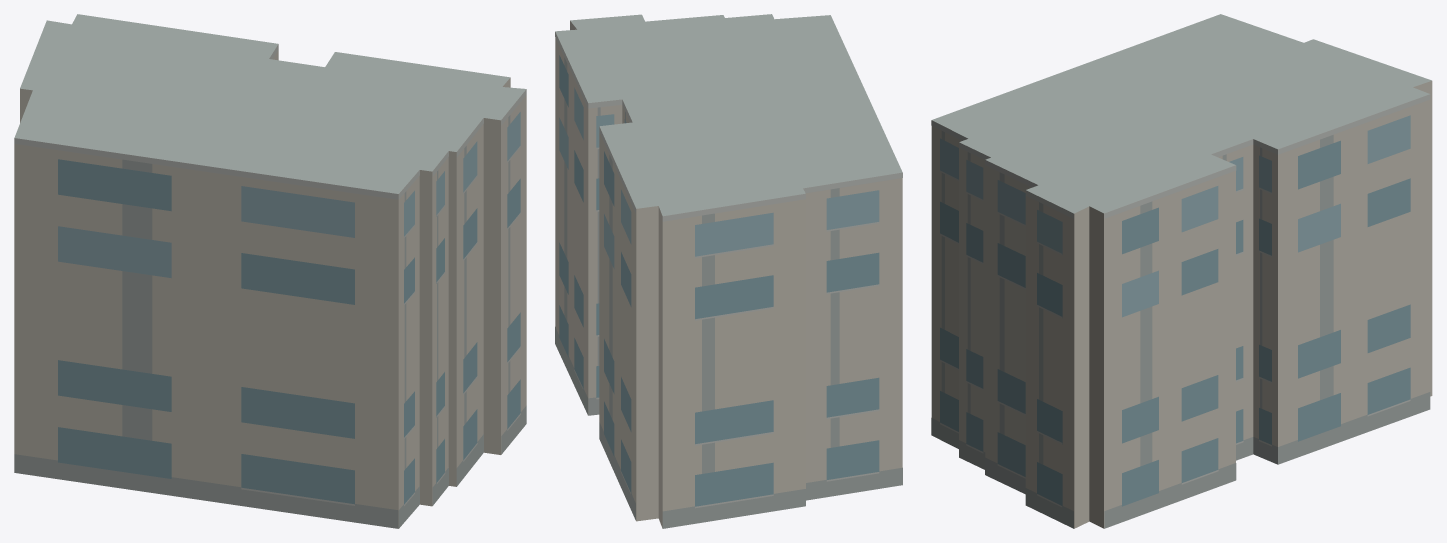
File: survey-upis-32633749.glb
3 renders of one model, left to right at view 1: azimuth 30°, elevation 25°; view 2: azimuth 150°, elevation 25°; view 3: azimuth 270°, elevation 25°, orthographic. The views are drawn at different scales.
Parts seen in each view (by area): view 1: survey-upis-32633749.tmp; view 2: survey-upis-32633749.tmp; view 3: survey-upis-32633749.tmp.
Part boxes in pixels (bbox=[...]): survey-upis-32633749.tmp: bbox=[14, 14, 526, 528]; survey-upis-32633749.tmp: bbox=[555, 14, 902, 528]; survey-upis-32633749.tmp: bbox=[931, 14, 1432, 528].
Size of the model in its own units: 19.15 by 14.1 by 20.31.
